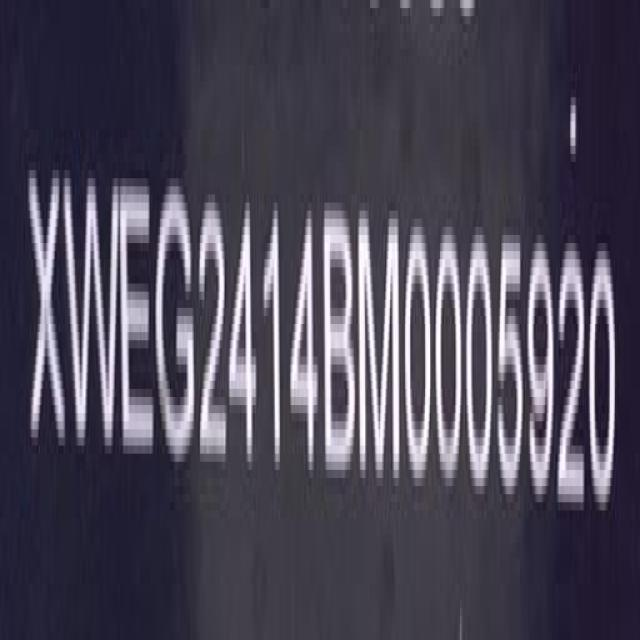0: (406, 215, 435, 489), (466, 232, 495, 494), (587, 251, 616, 511), (436, 224, 464, 490)
1: (261, 191, 284, 478)
2: (198, 197, 230, 474), (558, 245, 588, 511)
4: (291, 195, 324, 486), (228, 195, 257, 481)
5: (499, 225, 525, 499)
9: (527, 241, 555, 505)
B: (324, 198, 358, 486)
E: (122, 178, 159, 470)
G: (156, 181, 197, 469)
M: (356, 200, 405, 491)
W: (64, 164, 120, 464)
X: (31, 161, 67, 465)
